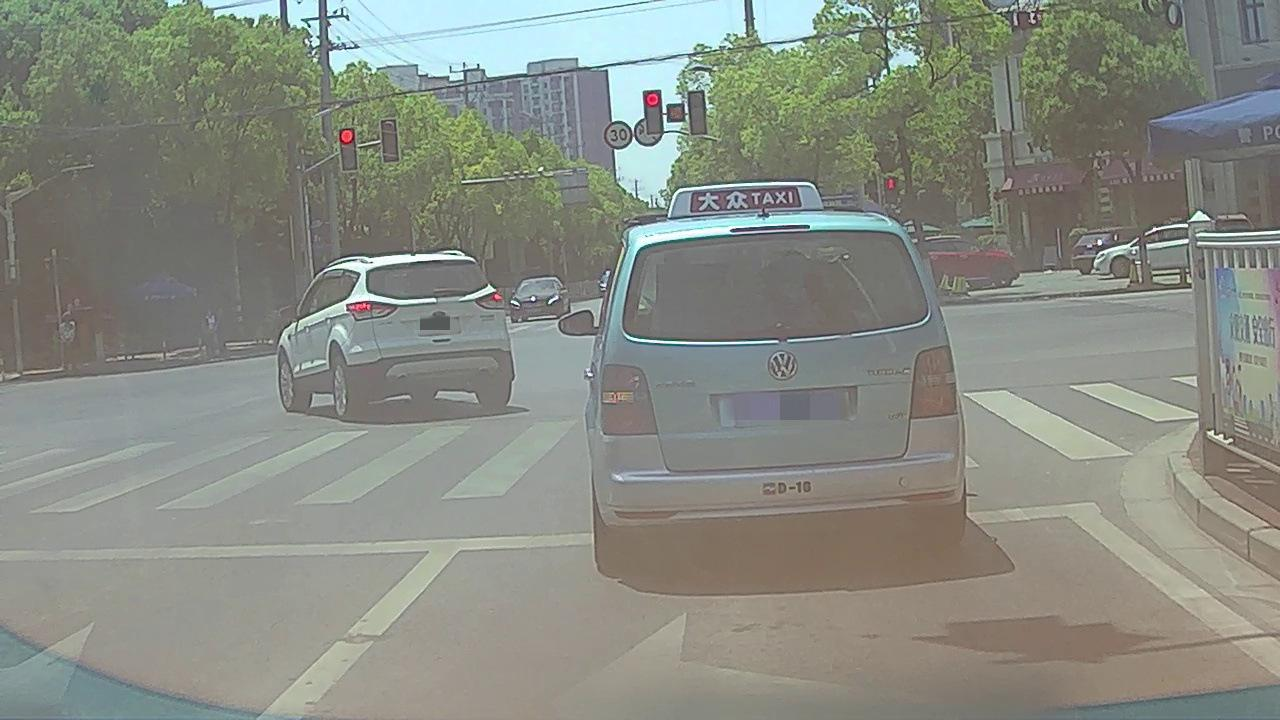traffic_light: (643, 92, 661, 135), (339, 129, 357, 169)
